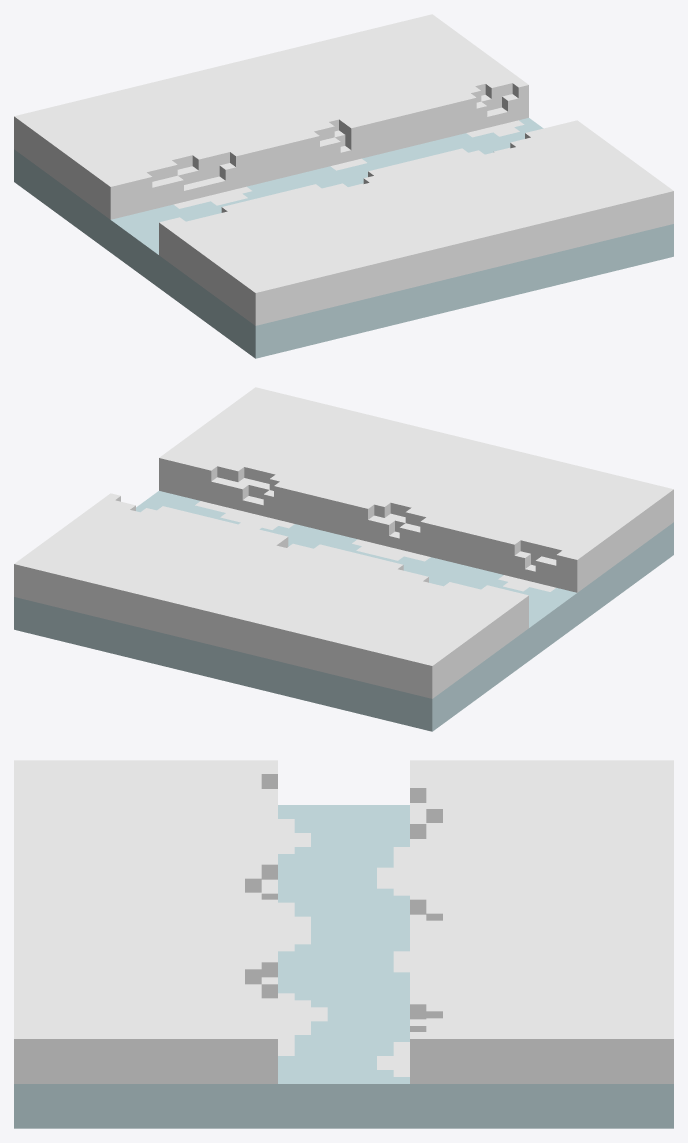
Rendered from Straight Path Polar Tile 1.obj.
3 views of the same model, one above another, from view 1: azimuth 30°, elevation 25°; view 2: azimuth 150°, elevation 25°; view 3: azimuth 270°, elevation 25° (orthographic). The views are drawn at different scales.
Bounding box in the file's own units: 8 × 1.2 × 8.
Materials: 1 (1 with a texture image).
